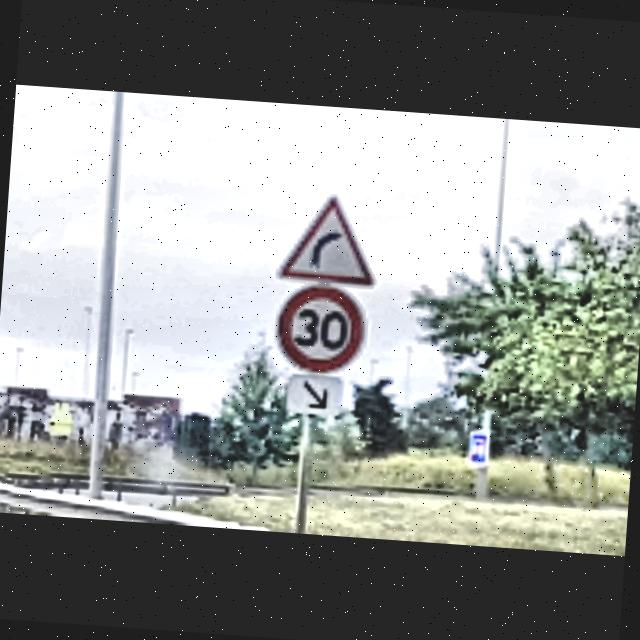speed_30: (269, 280, 372, 378)
